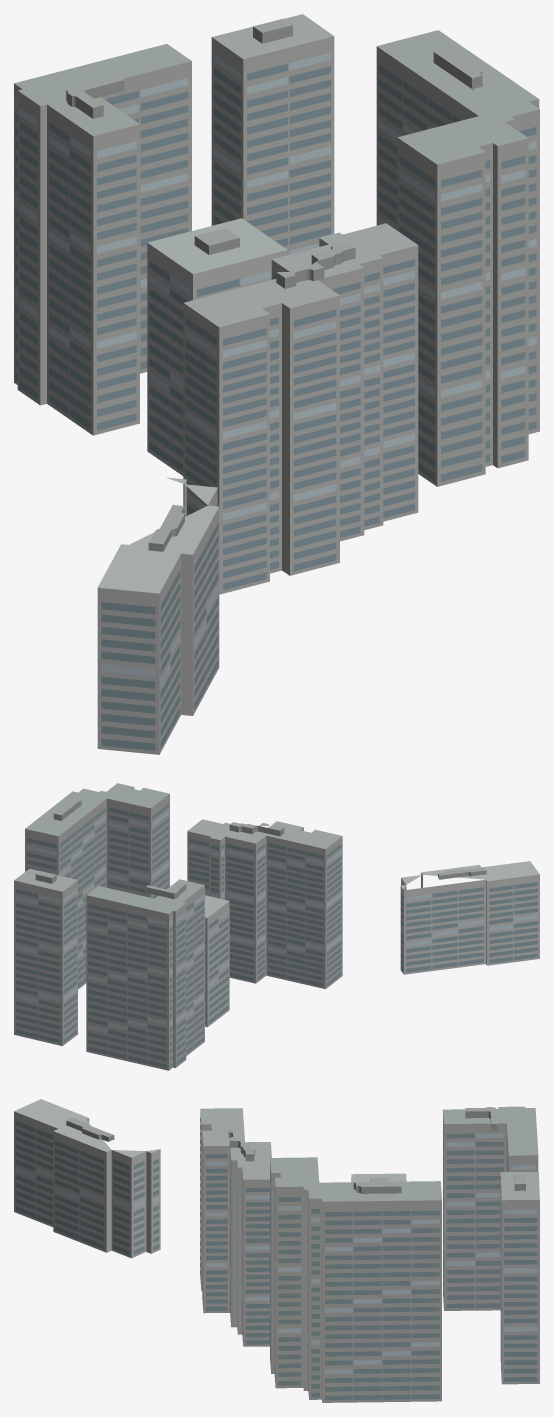
Rendered from apt-a13086802.glb.
3 views of the same model, one above another, from view 1: azimuth 30°, elevation 25°; view 2: azimuth 150°, elevation 25°; view 3: azimuth 270°, elevation 25° (orthographic). The views are drawn at different scales.
Parts seen in each view (by area): view 1: apt-a13086802; view 2: apt-a13086802; view 3: apt-a13086802.
Boxes of the visible parts, x1,y1,x2,y2 form: apt-a13086802: (14,14,539,754); apt-a13086802: (14,783,539,1070); apt-a13086802: (14,1099,539,1402).
Size of the model in its own units: 153 by 73 by 167.
